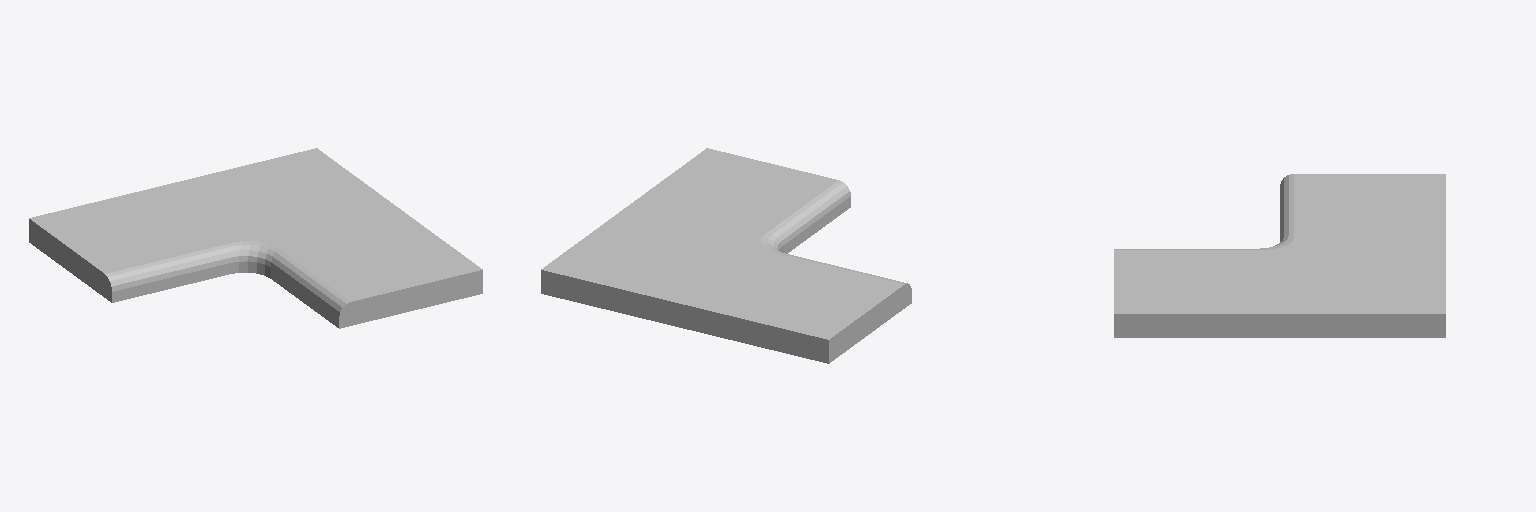
The model's file is GF_ICorner_3_2.obj.
The picture shows the model from 3 angles: view 1: azimuth 30°, elevation 25°; view 2: azimuth 150°, elevation 25°; view 3: azimuth 270°, elevation 25°; orthographic projection.
Parts seen in each view (by area): view 1: GF_ICorner_3_2; view 2: GF_ICorner_3_2; view 3: GF_ICorner_3_2.
Part boxes in pixels (x1,y1,x2,y2): GF_ICorner_3_2: (29, 148, 482, 328); GF_ICorner_3_2: (541, 148, 911, 363); GF_ICorner_3_2: (1114, 174, 1445, 337).
Bounding box in the file's own units: 4 × 0.3187 × 4.